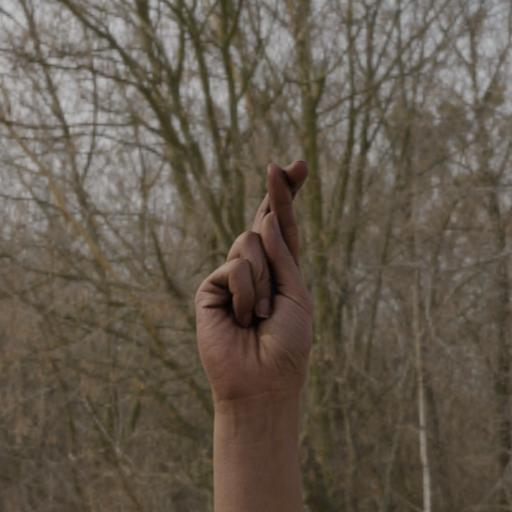R: (191, 154, 321, 404)
